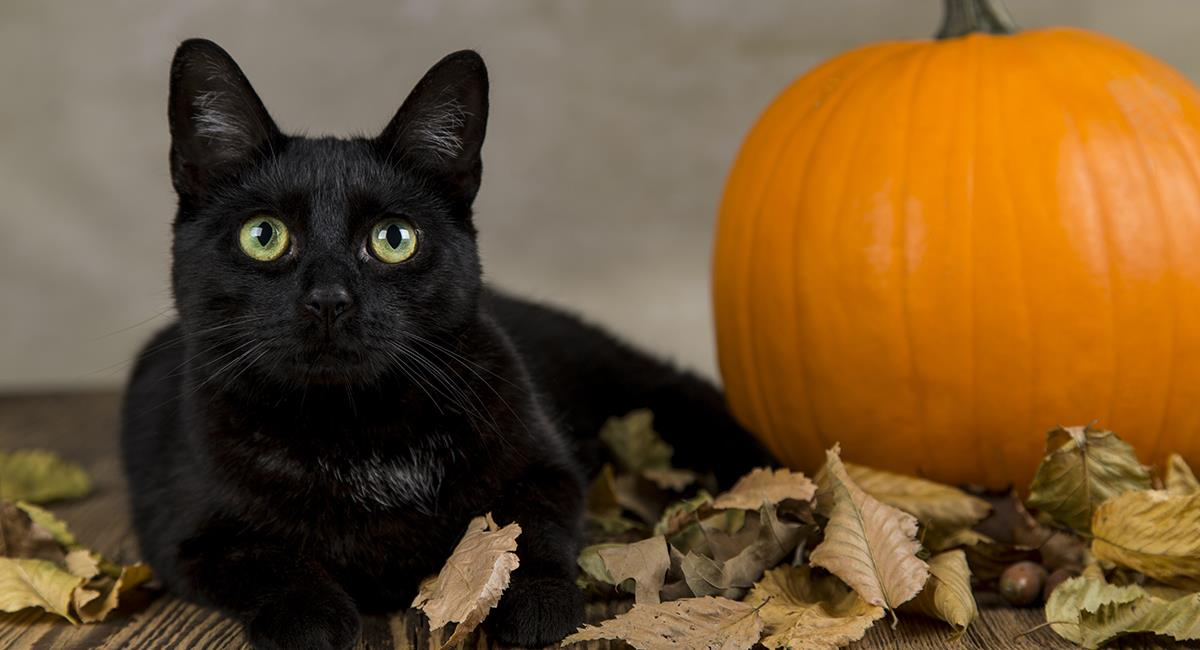cat: (99, 17, 757, 624)
